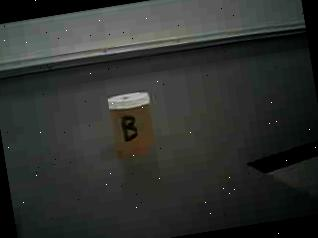Bottle B: (98, 84, 166, 164)
